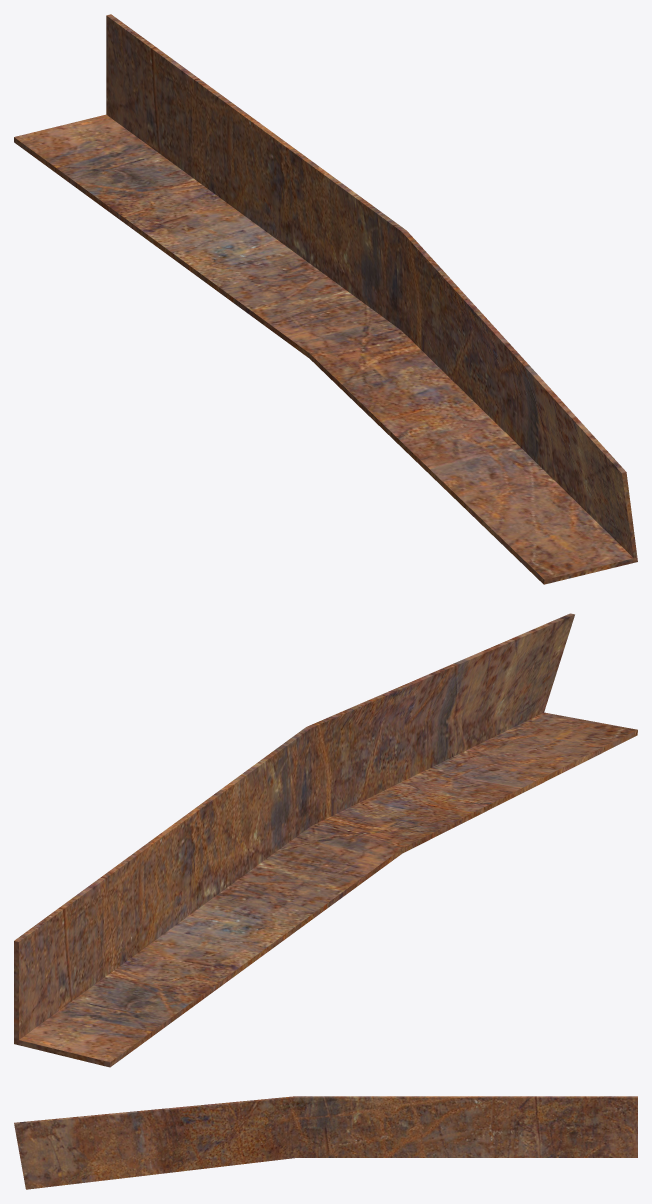
File: Metal_Bar_B_2.fbx
3 renders of one model, top to bottom at view 1: azimuth 30°, elevation 25°; view 2: azimuth 150°, elevation 25°; view 3: azimuth 270°, elevation 25°, orthographic. The views are drawn at different scales.
Parts seen in each view (by area): view 1: pCube6; view 2: pCube6; view 3: pCube6.
Part boxes in pixels (x1,y1,x2,y2): pCube6: [14, 14, 637, 584]; pCube6: [14, 613, 637, 1067]; pCube6: [14, 1096, 637, 1189].
Bounding box in the file's own units: 0.9936 × 1.53 × 9.36.
